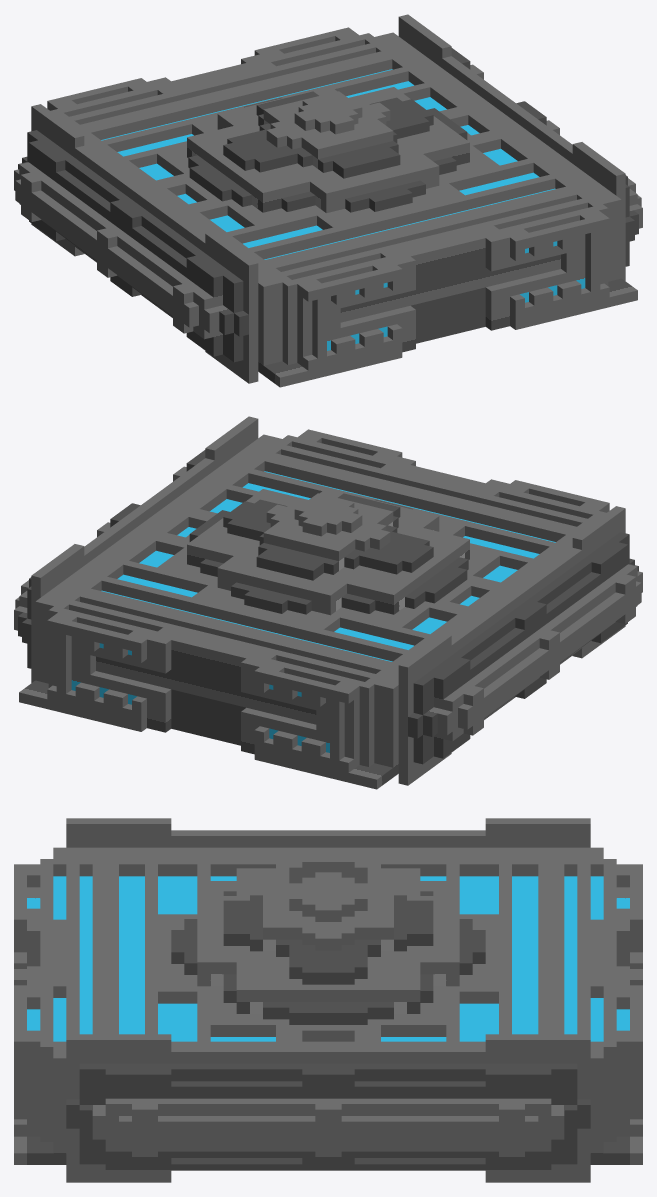
File: alien_saucer3a.fbx
3 renders of one model, top to bottom at view 1: azimuth 30°, elevation 25°; view 2: azimuth 150°, elevation 25°; view 3: azimuth 270°, elevation 25°, orthographic. The views are drawn at different scales.
Parts seen in each view (by area): view 1: alien_saucer3a; view 2: alien_saucer3a; view 3: alien_saucer3a.
Part boxes in pixels (bbox=[...]): alien_saucer3a: bbox=[14, 14, 642, 387]; alien_saucer3a: bbox=[14, 416, 642, 789]; alien_saucer3a: bbox=[14, 818, 642, 1182].
Bounding box in the file's own units: 4.8 × 4.8 × 1.5.
1 material, 1 textured.
